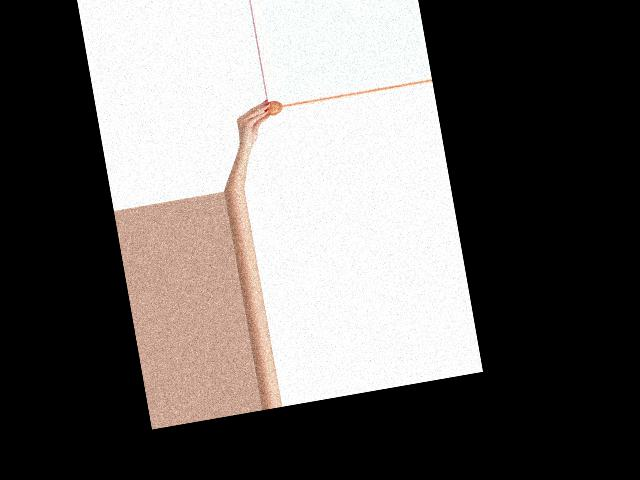egg: (263, 99, 283, 116)
